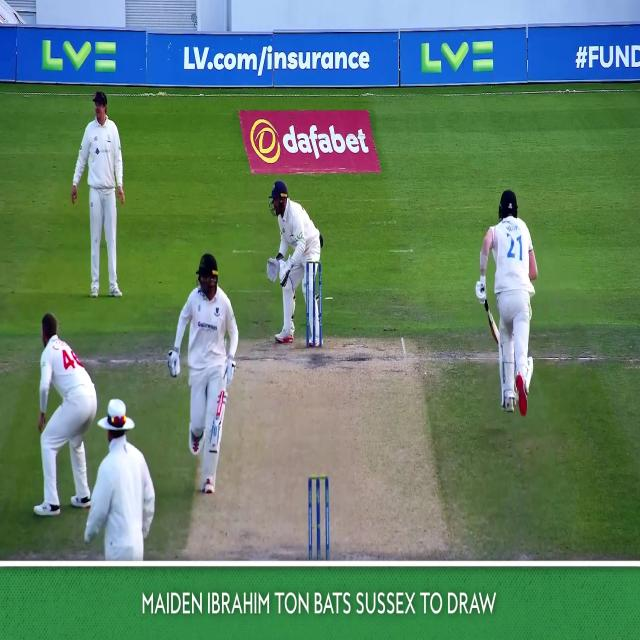stump: (308, 476, 330, 562), (308, 475, 330, 560), (306, 262, 322, 350), (306, 262, 322, 347)
